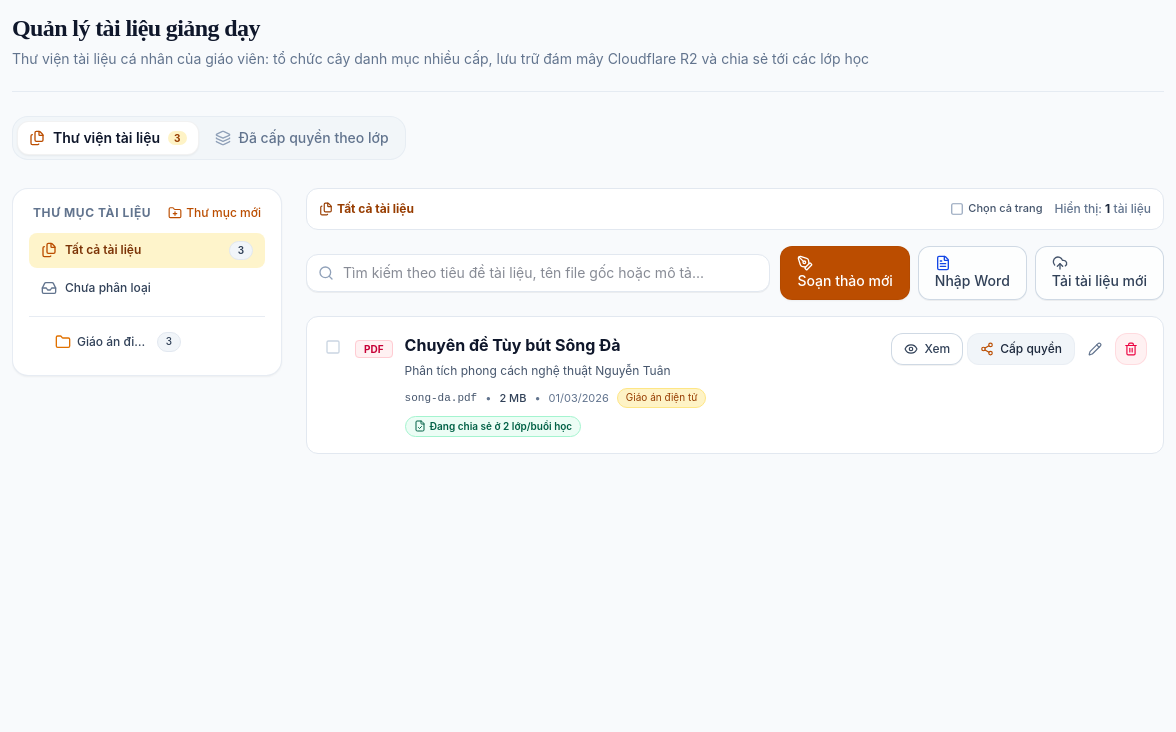
it: TeacherDocumentsPage › switches between "Thư viện tài liệu" and "Đã cấp quyền theo lớp"
Check: the text "Đã cấp quyền theo lớp" is shown, box [238,128,389,148]
Click the button "Đã cấp quyền theo lớp". click: point(302, 138)
box: [202,121,401,155]
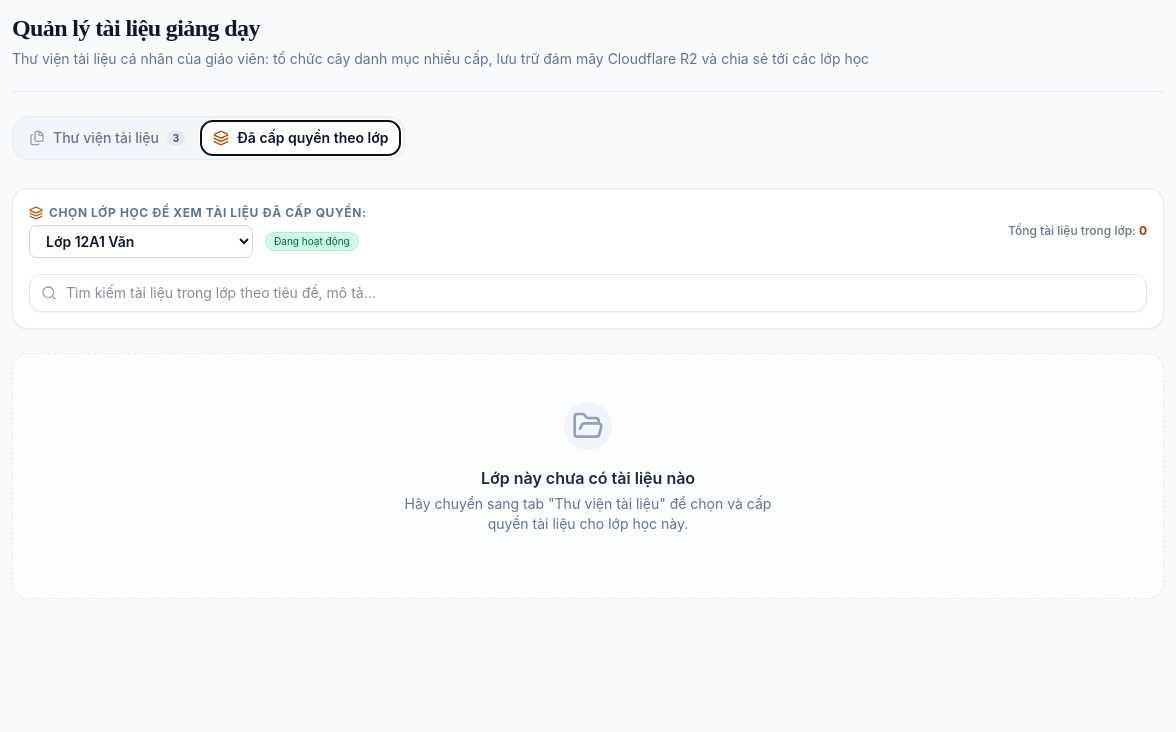
Check: the text "Chọn lớp học để xem tài liệu đã cấp quyền:" is shown, box [29,205,367,221]
